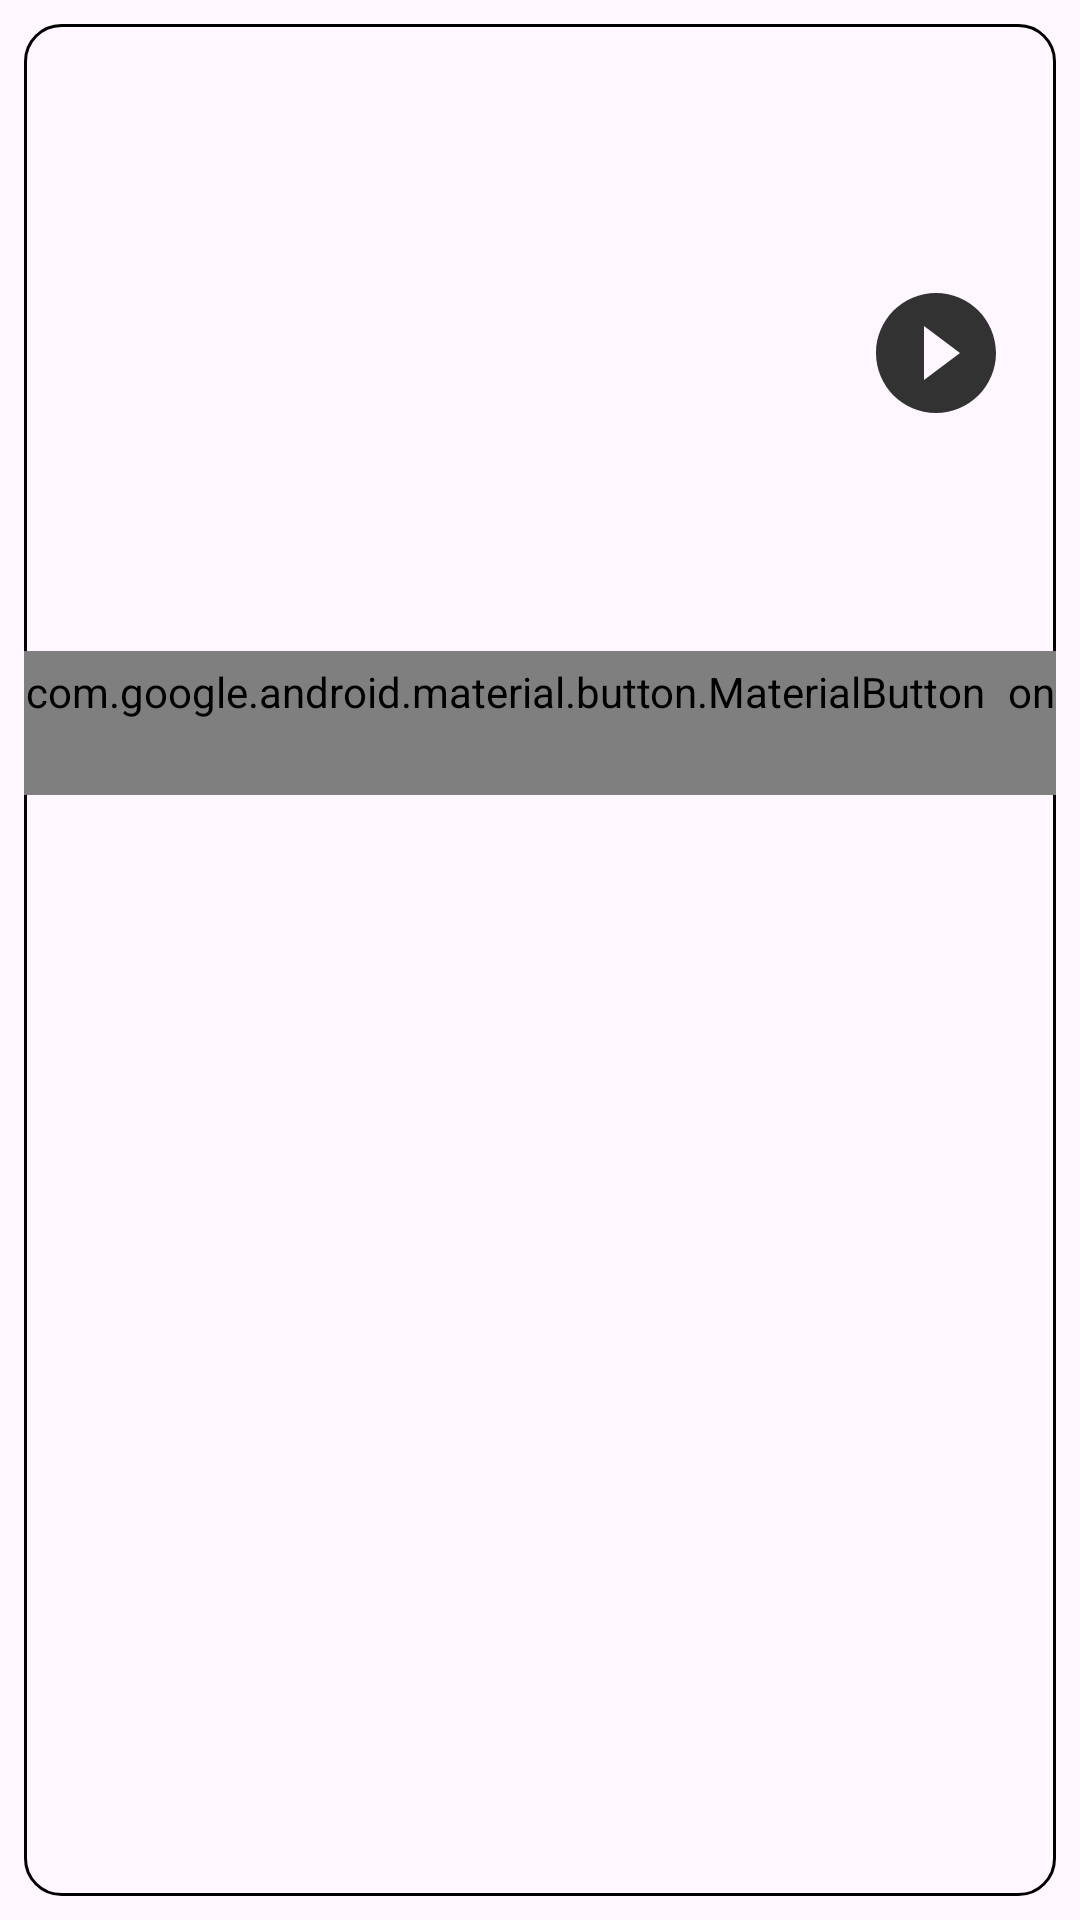

Icons on this 1080w x 1920h Android screen, each with its box as (x1, y1, x2, y2):
icon play: (876, 293, 996, 413)
